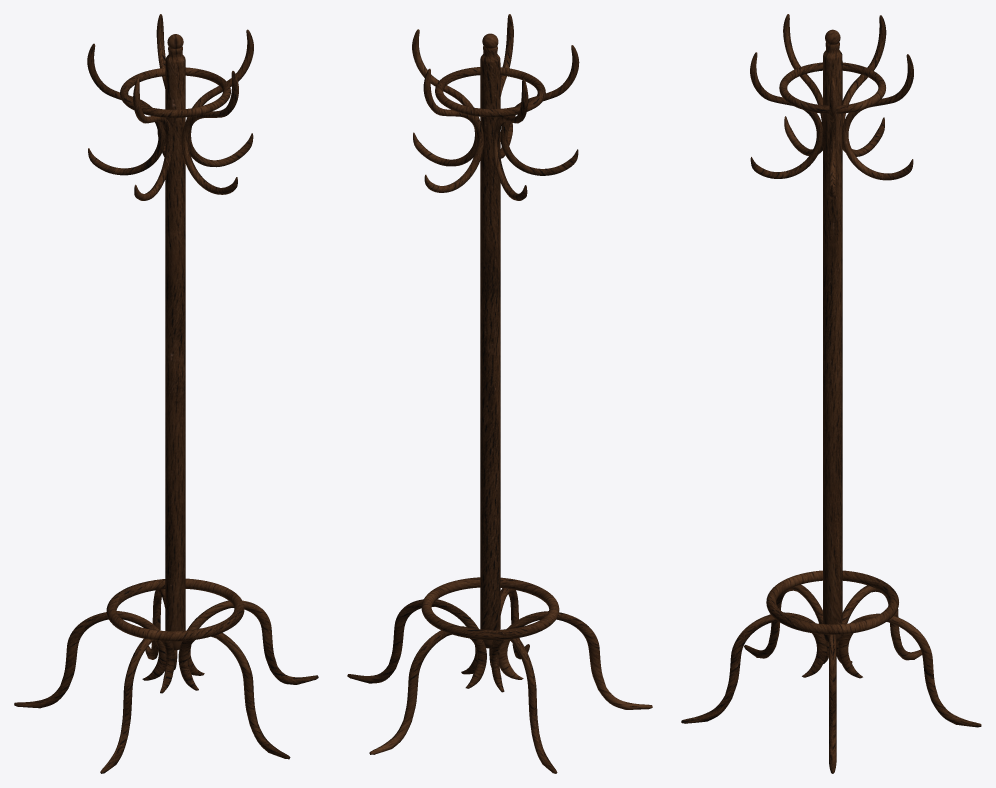
Rendered from Hanger.fbx.
3 views of the same model, side by side, from view 1: azimuth 30°, elevation 25°; view 2: azimuth 150°, elevation 25°; view 3: azimuth 270°, elevation 25° (orthographic).
Parts seen in each view (by area): view 1: p; view 2: p; view 3: p.
Boxes of the visible parts, bbox=[...] form: p: bbox=[14, 14, 318, 773]; p: bbox=[347, 14, 652, 773]; p: bbox=[681, 14, 981, 773].
Size of the model in its own units: 70.72 by 175 by 70.72.
